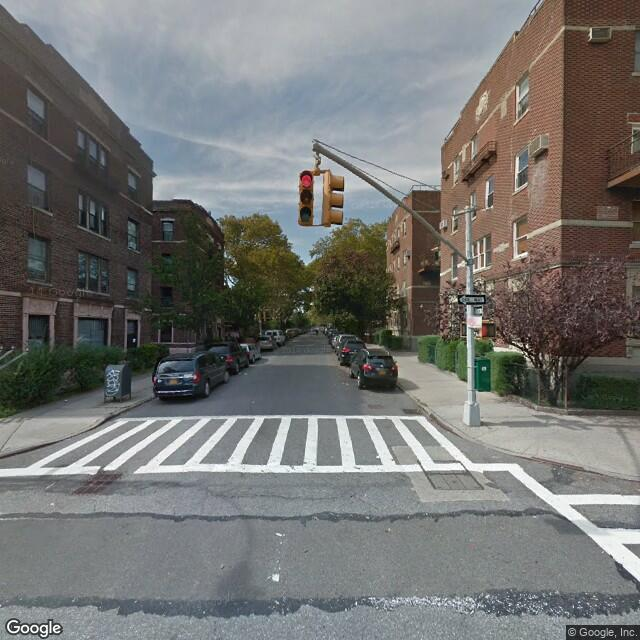litter: (267, 570, 282, 583), (274, 529, 283, 540), (48, 500, 56, 508)
